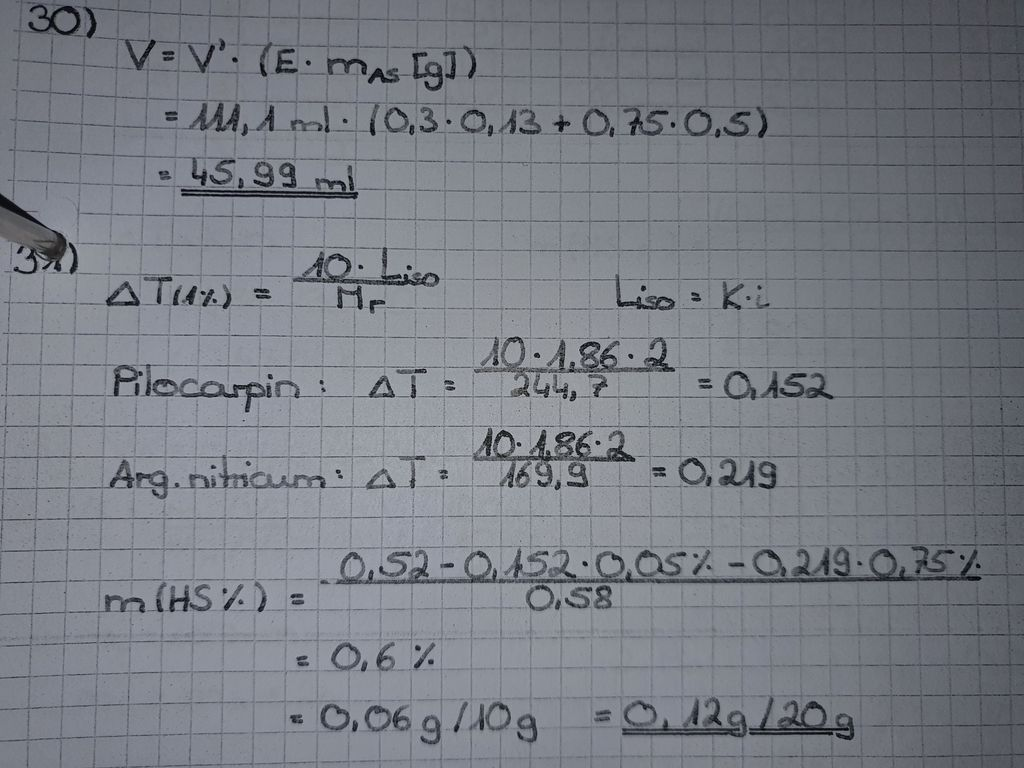equals: (151, 45, 185, 73), (643, 454, 674, 483), (249, 279, 277, 306), (679, 282, 706, 310), (283, 707, 312, 732), (694, 367, 717, 398), (589, 702, 616, 728), (430, 460, 457, 485), (293, 646, 316, 672), (284, 586, 309, 609), (159, 106, 182, 130), (153, 165, 181, 184), (441, 371, 463, 393)
equation: (83, 540, 989, 617), (365, 334, 840, 409), (140, 92, 780, 147), (356, 427, 786, 496), (276, 692, 863, 742), (101, 242, 441, 315), (102, 30, 483, 88), (145, 157, 363, 201), (607, 264, 777, 320), (285, 628, 453, 679)
fraction: (315, 539, 989, 614), (474, 332, 680, 402), (463, 419, 644, 493), (614, 689, 858, 742), (318, 696, 554, 746), (293, 241, 450, 315)
separator: (725, 551, 752, 575), (434, 553, 460, 575), (552, 113, 573, 133)
term: (186, 35, 482, 84), (365, 102, 775, 136), (100, 571, 274, 614), (186, 95, 337, 140), (179, 158, 360, 193), (108, 264, 241, 311), (720, 358, 838, 404), (676, 444, 781, 491), (331, 635, 439, 668), (364, 444, 434, 494), (611, 268, 686, 312), (372, 359, 436, 402), (716, 273, 772, 318), (120, 32, 156, 73)
